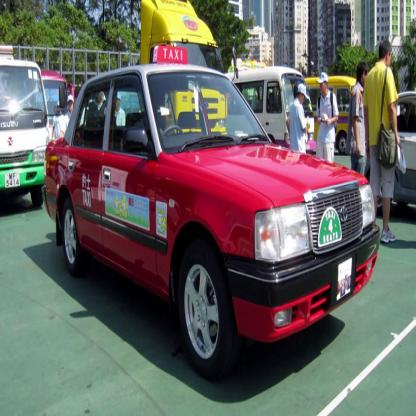taxi: (41, 44, 379, 384)
